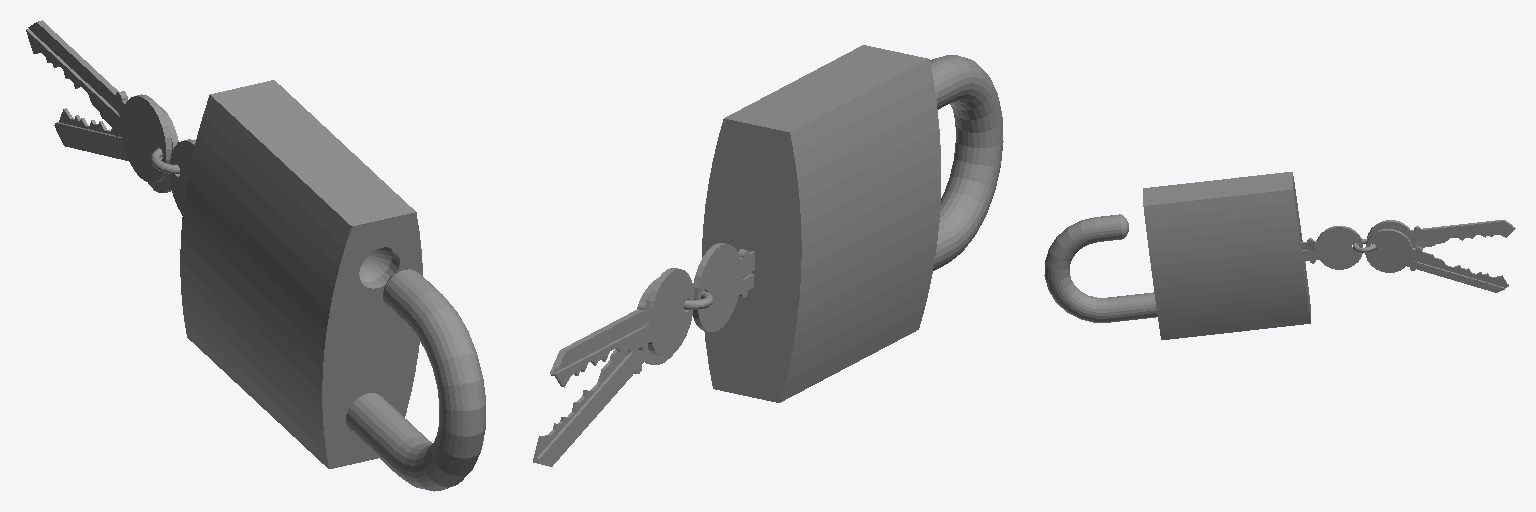
robot.urdf — cube.urdf:
<?xml version="0.0" ?> 
<robot name="cube.urdf"> 
<link name="legobrick"> 
<contact> 
<lateral_friction value="1.0"/>
<rolling_friction value="0.0"/>
<contact_cfm value="0.0"/>
<contact_erp value="1.0"/>
</contact> 
<inertial> 
<origin rpy="0 0 0" xyz="0.0 0.0 0.0"/> 
<mass value="0.1"/> 
<inertia ixx="1" ixy="0" ixz="0" iyy="1" iyz="0" izz="1"/> 
</inertial> 
<visual> 
<origin rpy="1.570796 0 0" xyz="-0.0003036309473977956 0.0032800662062230255 -0.0029888572624529315"/> 
<geometry> 
<mesh filename="2c0600cdf28535eb8dfc720b465c725c.obj" scale="1 1 1"/> 
</geometry> 
<material name="yellow"> 
<color rgba="0.6 0.6 0.6 1"/> 
</material> 
</visual> 
<collision> 
<origin rpy="1.570796 0 0" xyz="-0.0003036309473977956 0.0032800662062230255 -0.0029888572624529315"/> 
<geometry> 
<mesh filename="2c0600cdf28535eb8dfc720b465c725c_col.obj" scale="1 1 1"/> 
</geometry> 
</collision> 
</link> 
</robot>

--- Facts derived from the render (not from the file) ---
3 views of the same robot in one strip: view 1: azimuth 30°, elevation 25°; view 2: azimuth 150°, elevation 25°; view 3: azimuth 270°, elevation 25° (orthographic).
Model cube.urdf with 1 links and 0 joints (none), rooted at legobrick, posed every joint at zero.
Links seen in each view (by area): view 1: legobrick; view 2: legobrick; view 3: legobrick.
Boxes of the visible links, x1,y1,x2,y2 form: legobrick: [26, 20, 485, 491]; legobrick: [533, 45, 1003, 466]; legobrick: [1044, 172, 1515, 339].
Bounding box of the posed robot: 0.0165 × 0.1256 × 0.045 m (x, y, z).
1 mesh visuals loaded from 1 distinct referenced files (1 OBJ).